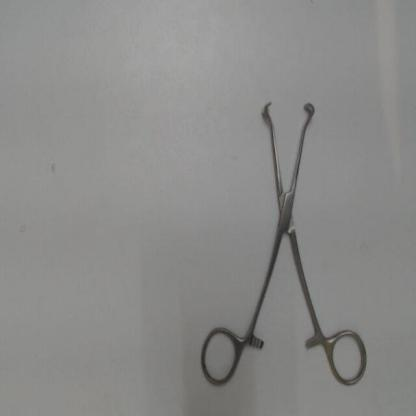Babcock Tissue Forceps: (194, 90, 376, 393)
